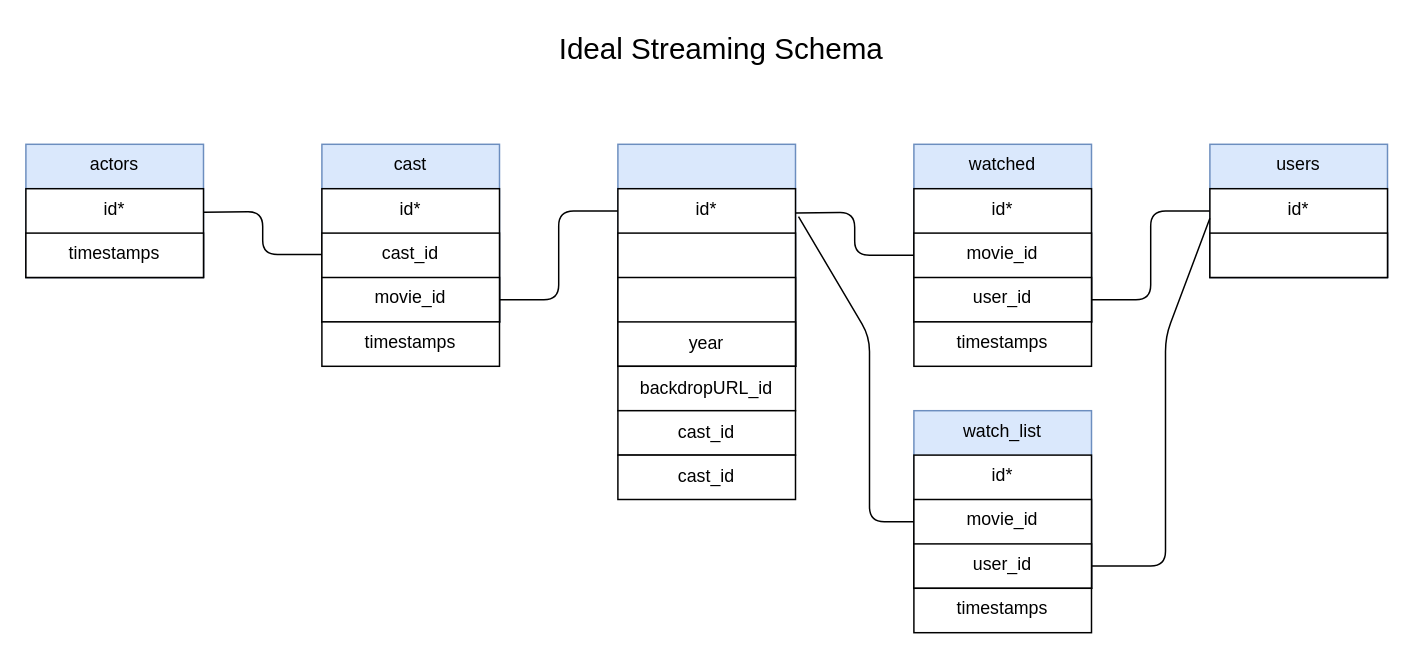
This 1413x659 diagram has some shape labels left out. Here are the shapes that lost their labels. From the top down, the box of each, then its label:
(616, 143, 796, 366): movies
(1208, 232, 1388, 278): email
(616, 232, 796, 366): imdb_id
(616, 276, 796, 366): title
